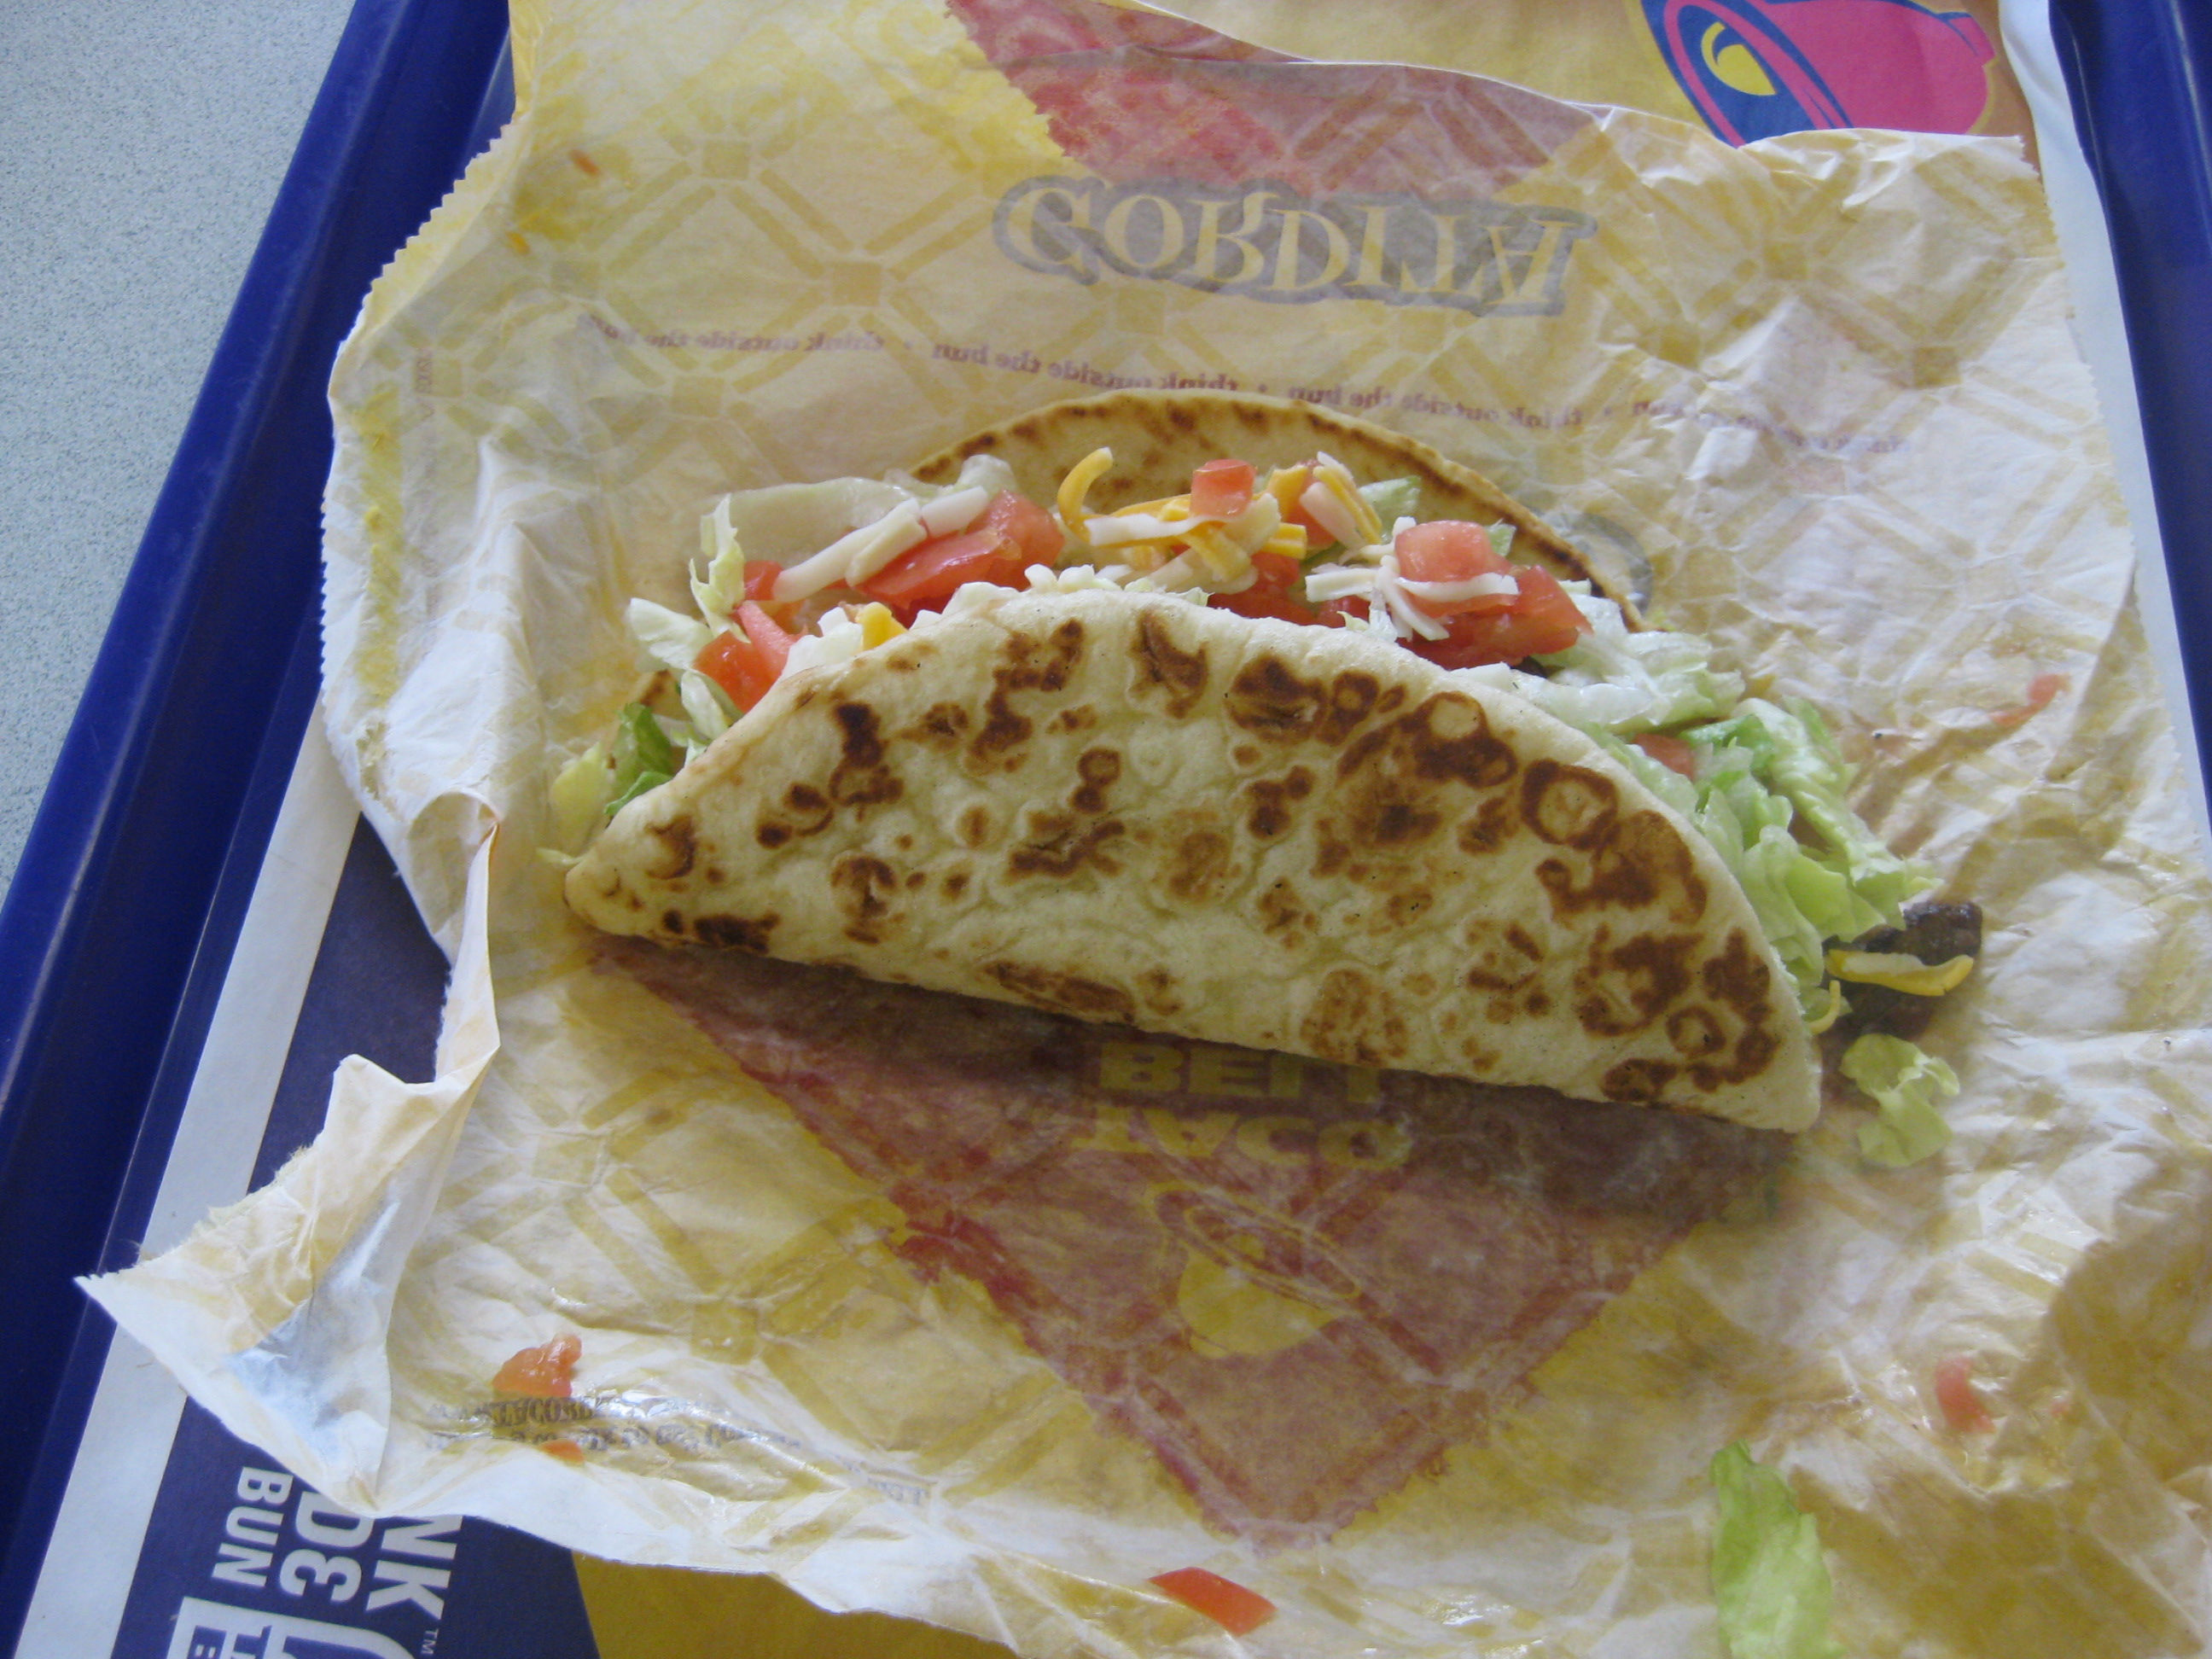taco: (533, 279, 1945, 1269)
